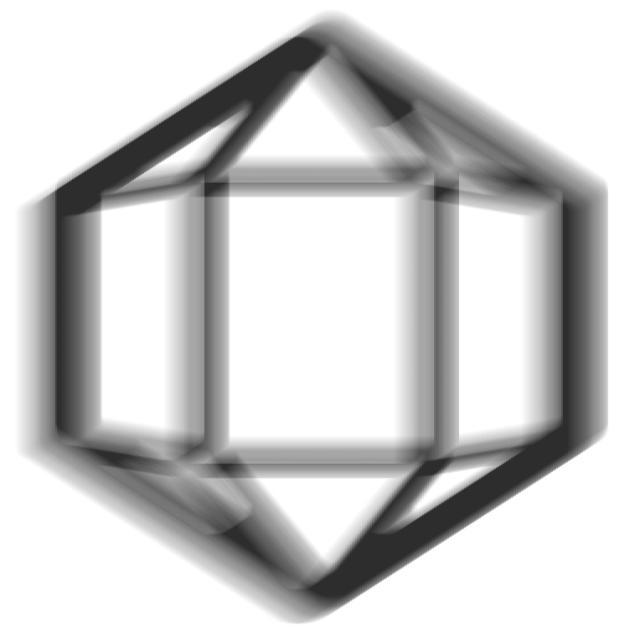crystal: (11, 7, 626, 638)
